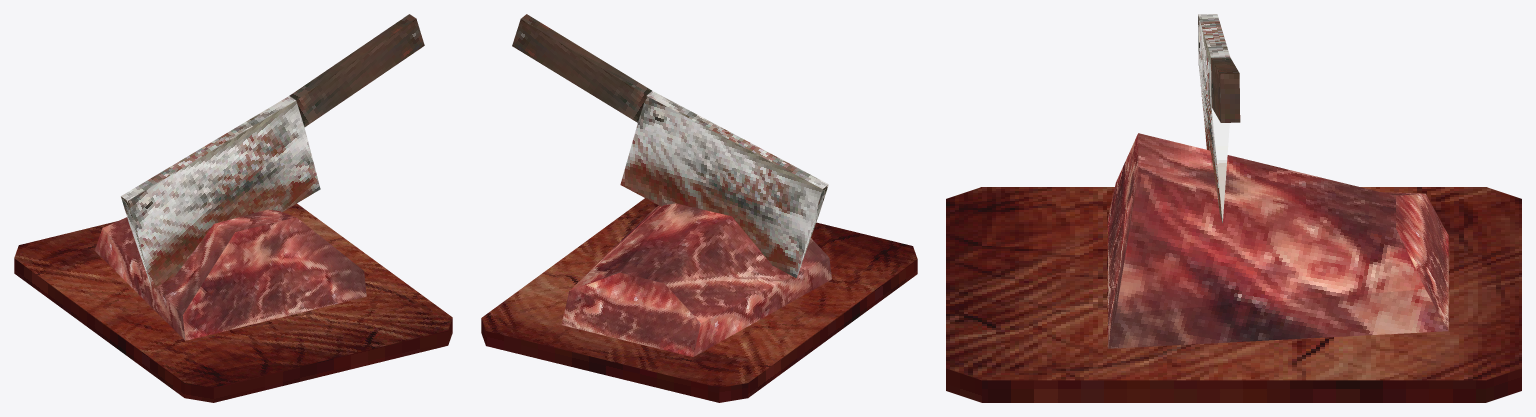
File: butcher-knife.glb
3 renders of one model, left to right at view 1: azimuth 30°, elevation 25°; view 2: azimuth 150°, elevation 25°; view 3: azimuth 270°, elevation 25°, orthographic. The views are drawn at different scales.
Visible parts, largest first — view 1: Cube, Cube.002, Cube.001; view 2: Cube, Cube.001, Cube.002; view 3: Cube, Cube.001, Cube.002.
Boxes of the visible parts, x1,y1,x2,y2 form: Cube: (14,203,452,402); Cube.002: (121,14,424,289); Cube.001: (94,209,366,340); Cube: (481,198,917,402); Cube.001: (561,203,831,356); Cube.002: (512,14,828,277); Cube: (946,187,1521,402); Cube.001: (1108,133,1448,348); Cube.002: (1198,14,1240,222).
Bounding box in the file's own units: 1.9 × 1.38 × 2.
3 materials, 3 textured.
